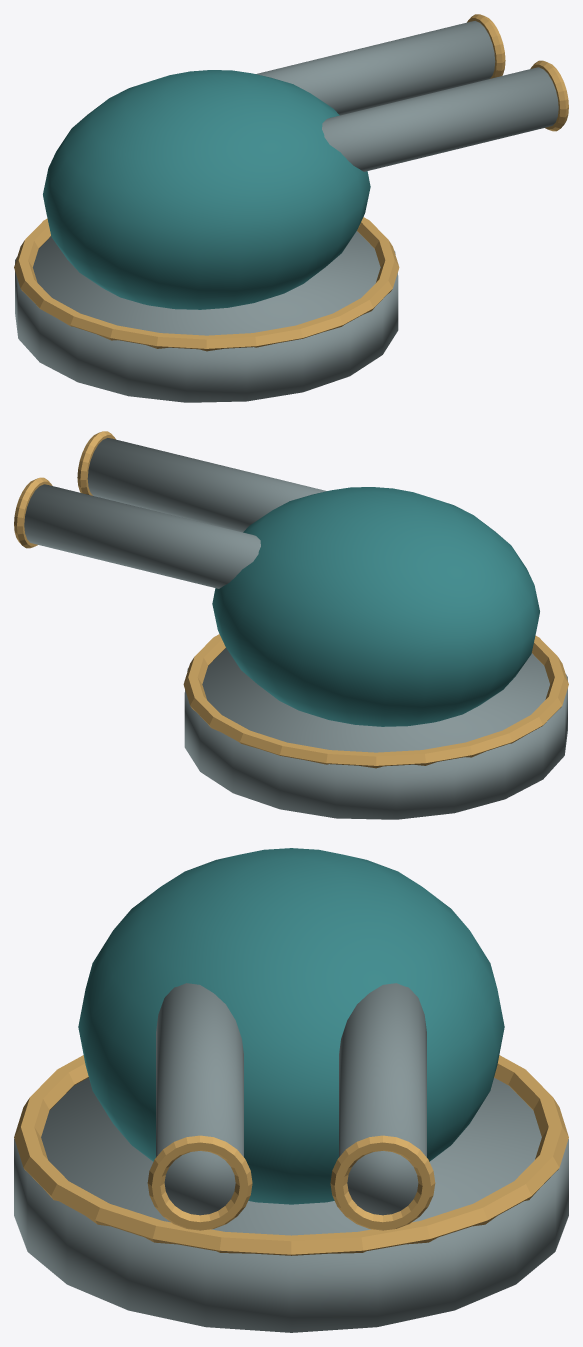
Rendered from module-flak.glb.
The picture shows the model from 3 angles, top to bottom: view 1: azimuth 30°, elevation 25°; view 2: azimuth 150°, elevation 25°; view 3: azimuth 270°, elevation 25°; orthographic projection. The views are drawn at different scales.
Parts seen in each view (by area): view 1: module-flak / Paint | North Sea petrol, module-flak / Iron | weathered steel, module-flak / Brass | machined champagne; view 2: module-flak / Paint | North Sea petrol, module-flak / Iron | weathered steel, module-flak / Brass | machined champagne; view 3: module-flak / Iron | weathered steel, module-flak / Paint | North Sea petrol, module-flak / Brass | machined champagne.
Part boxes in pixels (x1,y1,x2,y2): module-flak / Paint | North Sea petrol: [43, 70, 370, 309]; module-flak / Iron | weathered steel: [15, 21, 558, 402]; module-flak / Brass | machined champagne: [14, 14, 568, 351]; module-flak / Paint | North Sea petrol: [212, 487, 539, 726]; module-flak / Iron | weathered steel: [24, 438, 567, 819]; module-flak / Brass | machined champagne: [14, 431, 568, 768]; module-flak / Iron | weathered steel: [14, 983, 568, 1332]; module-flak / Paint | North Sea petrol: [78, 848, 504, 1204]; module-flak / Brass | machined champagne: [14, 1055, 568, 1255].
Bounding box in the file's own units: 2.36 × 1.09 × 1.64.
